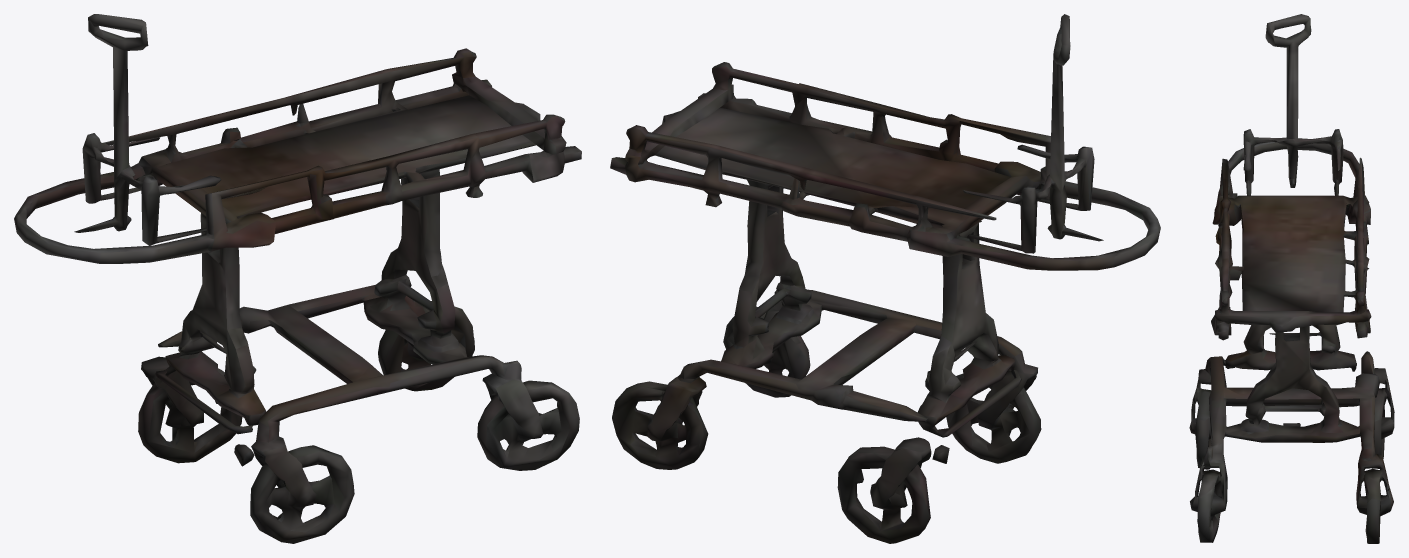
File: sturdy-iron-gurney-v001.glb
3 views of the same model, side by side, from view 1: azimuth 30°, elevation 25°; view 2: azimuth 150°, elevation 25°; view 3: azimuth 270°, elevation 25° (orthographic). The views are drawn at different scales.
Parts seen in each view (by area): view 1: sturdy-iron-gurney; view 2: sturdy-iron-gurney; view 3: sturdy-iron-gurney.
Boxes of the visible parts, box(x1,y1,x2,y2) form: sturdy-iron-gurney: box(14, 14, 581, 543); sturdy-iron-gurney: box(610, 14, 1160, 543); sturdy-iron-gurney: box(1189, 14, 1394, 543).
Bounding box in the file's own units: 0.8502 × 0.8317 × 0.3874.
1 material, 1 textured.
